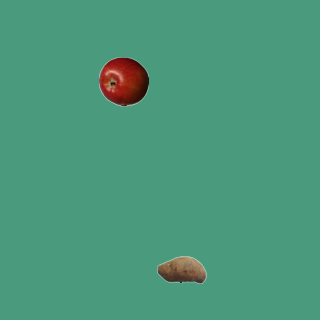Apple Braeburn: (98, 56, 148, 106)
Potato Sweet: (156, 244, 206, 294)
